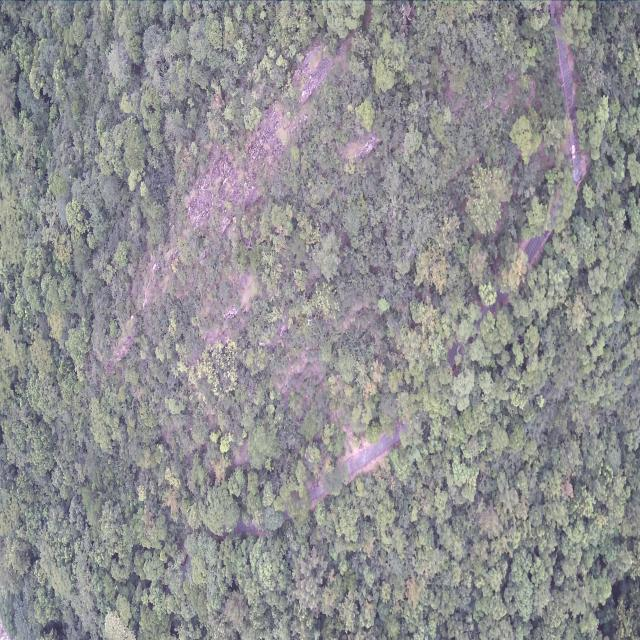UAV: (306, 317, 311, 327)
